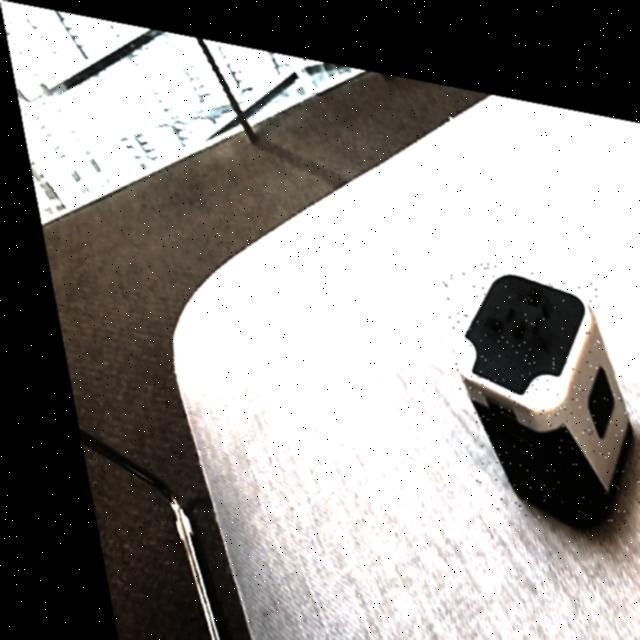adapter: (428, 237, 636, 518)
